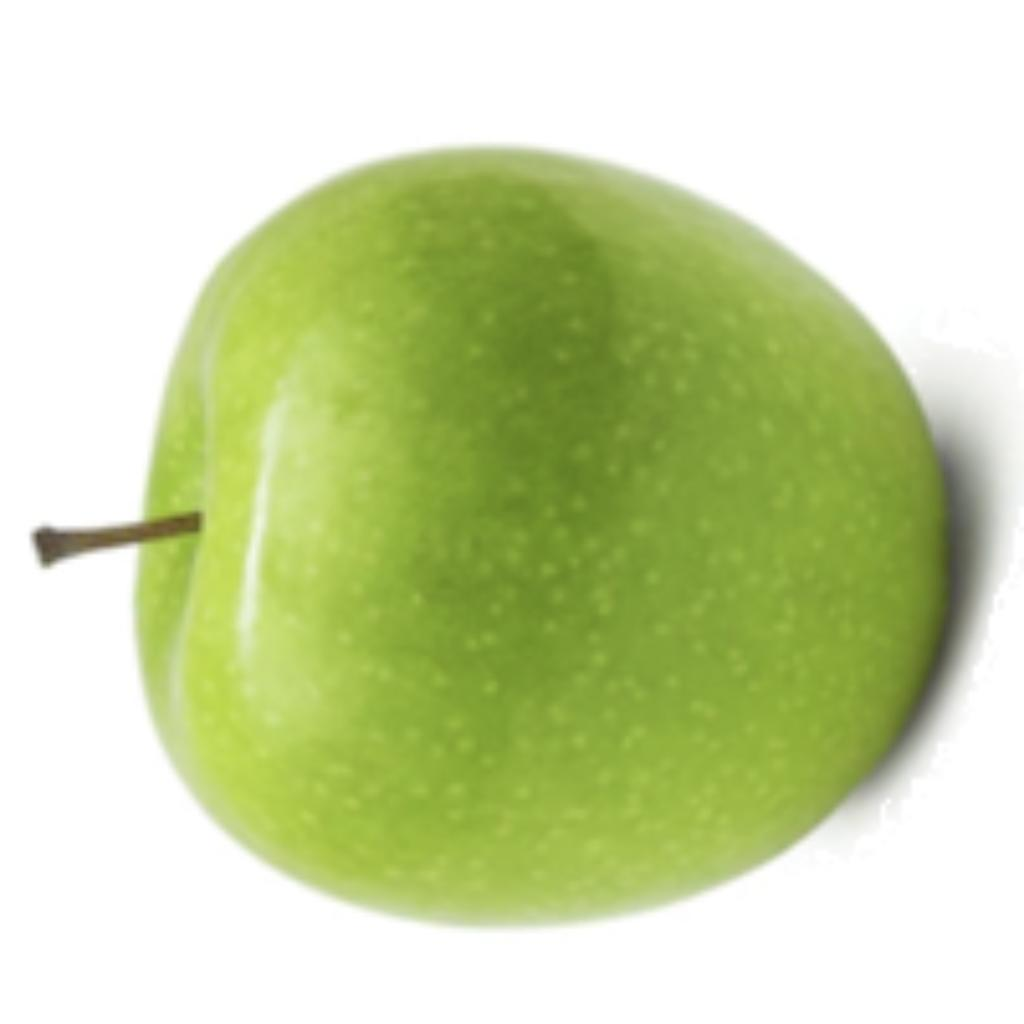apple: (107, 138, 1019, 932)
